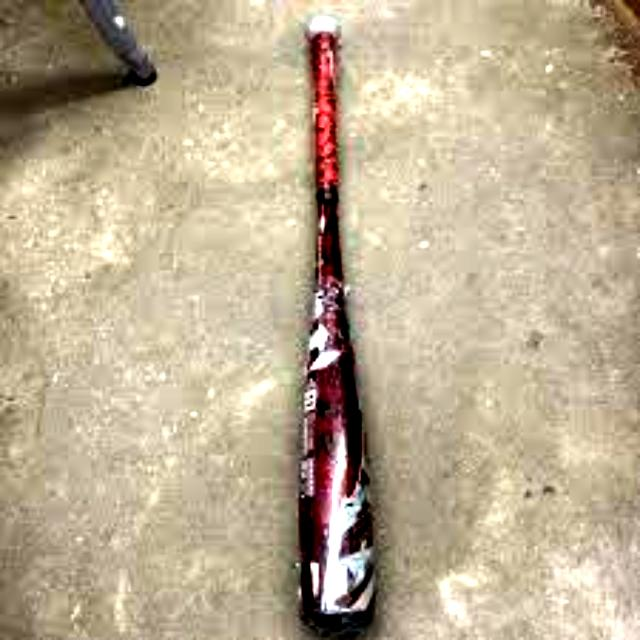baseball bat: (296, 15, 376, 637)
